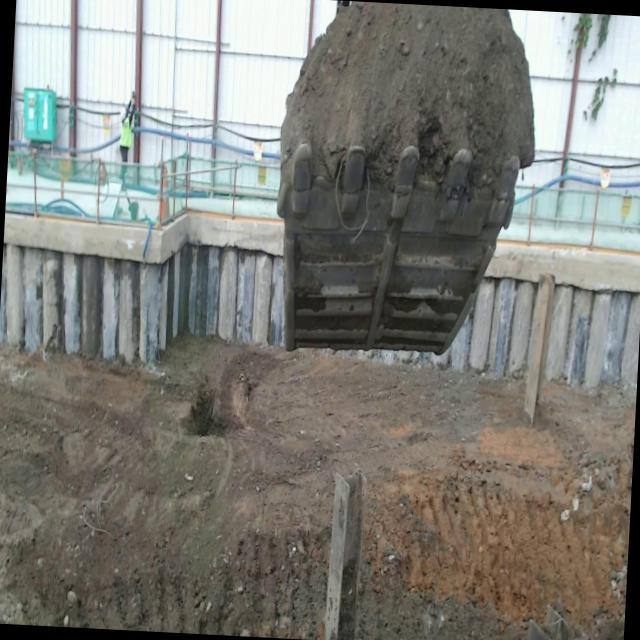white-sand: (0, 337, 637, 640), (281, 1, 534, 191)
